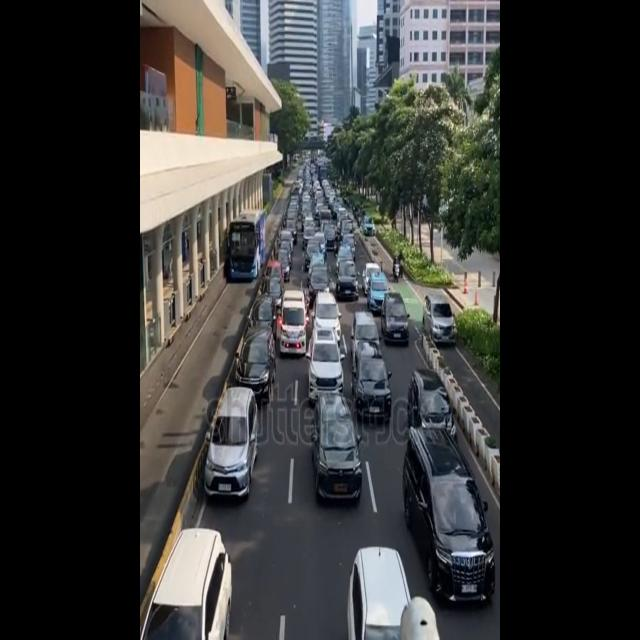Ambulance: (279, 286, 313, 360)
